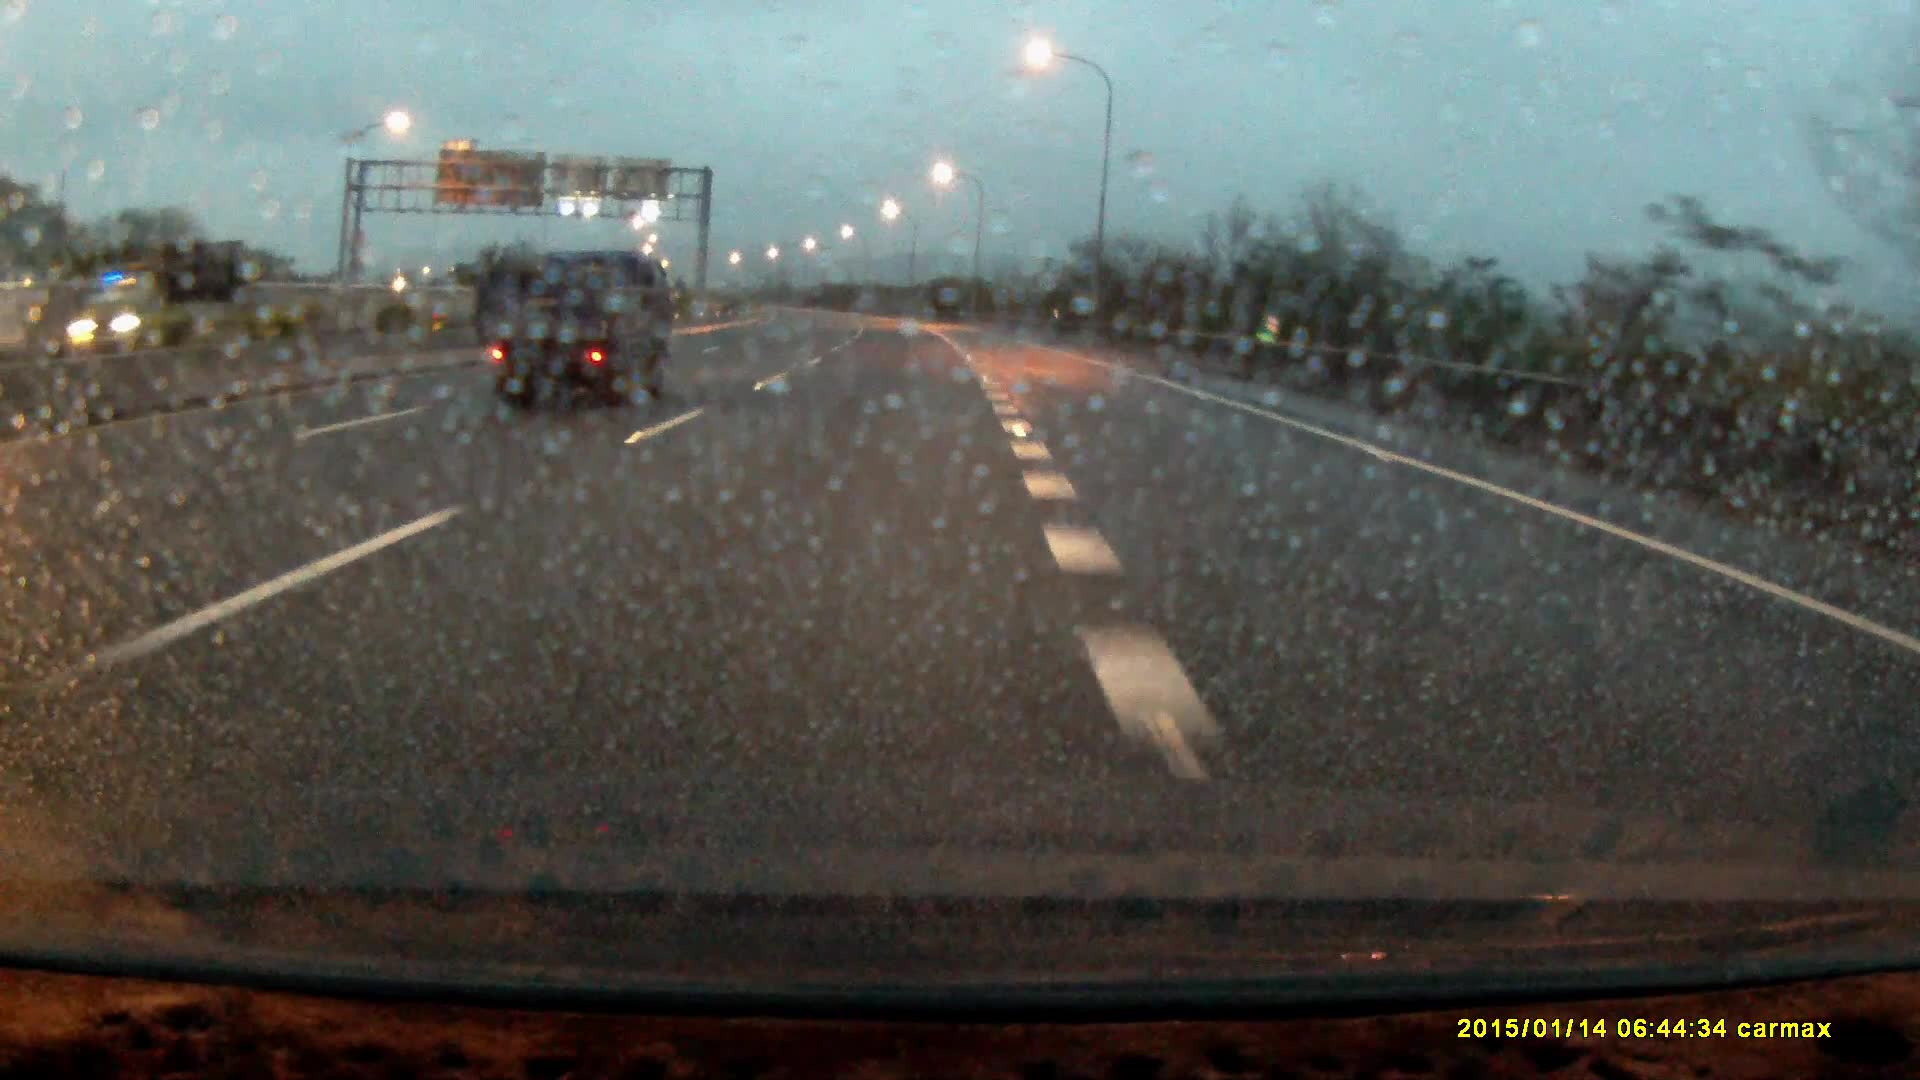vehicle: (475, 249, 676, 411), (79, 237, 252, 342)
